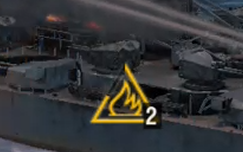2fire: (85, 88, 162, 131)
